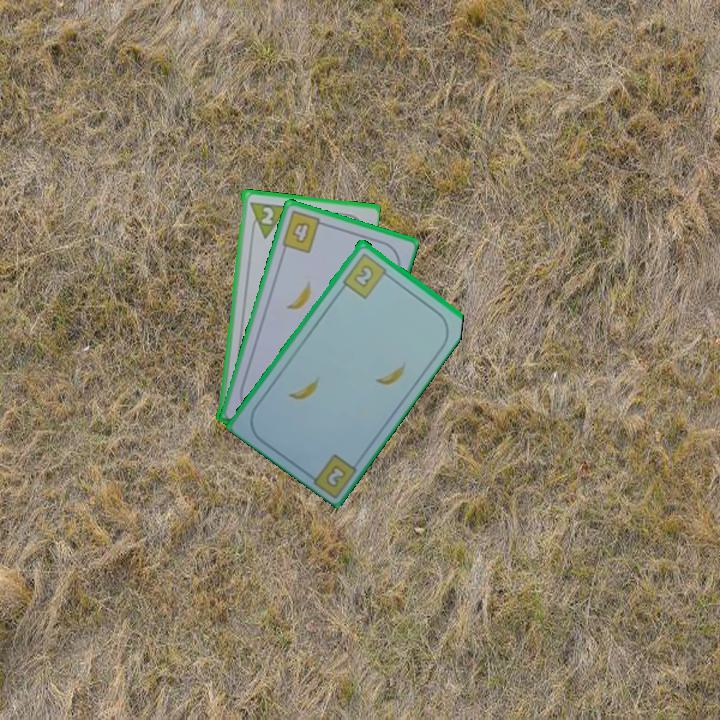2b: (339, 249, 393, 301), (322, 461, 349, 490)
2p: (257, 203, 276, 227)
4b: (278, 207, 329, 256)
